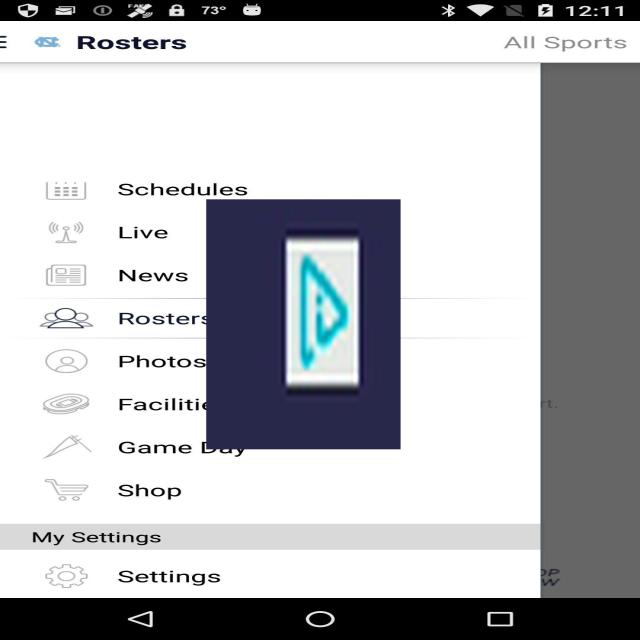sneaking: (206, 200, 401, 450)
